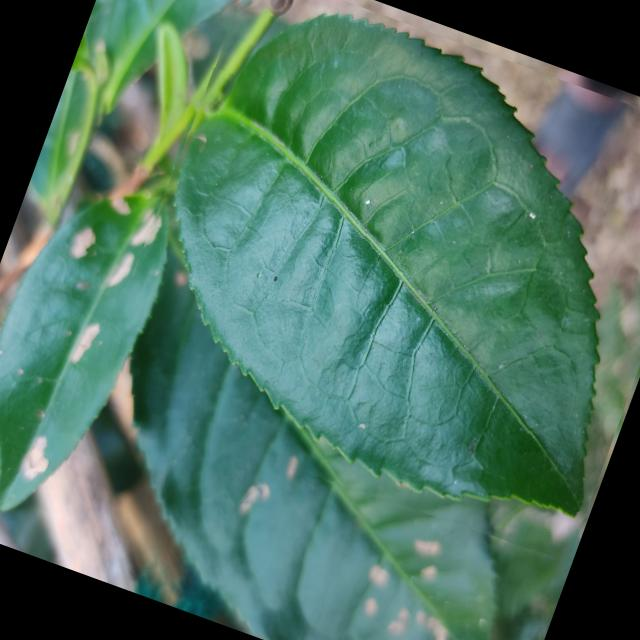Category D(7+ days, Not for Tea): (83, 0, 640, 571)
